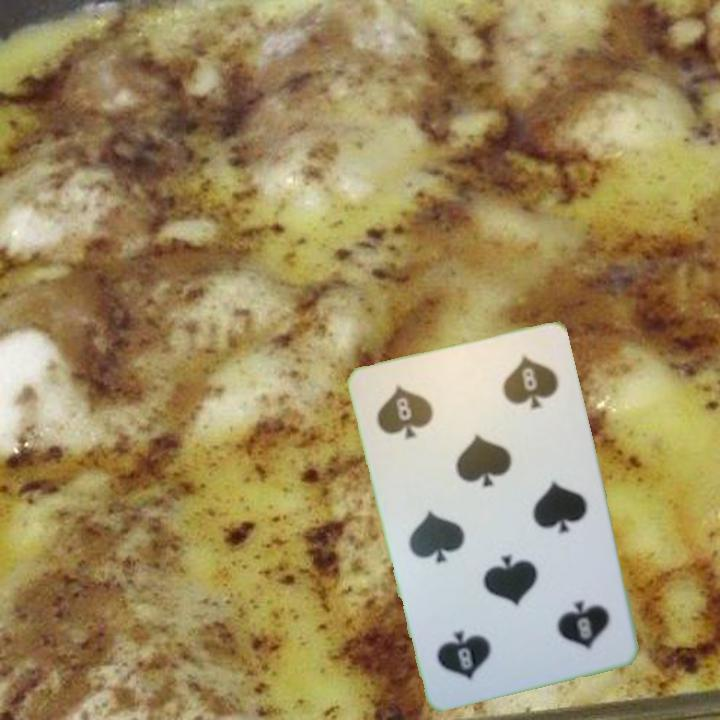s_8.png: (510, 567, 626, 673), (364, 359, 480, 465)
